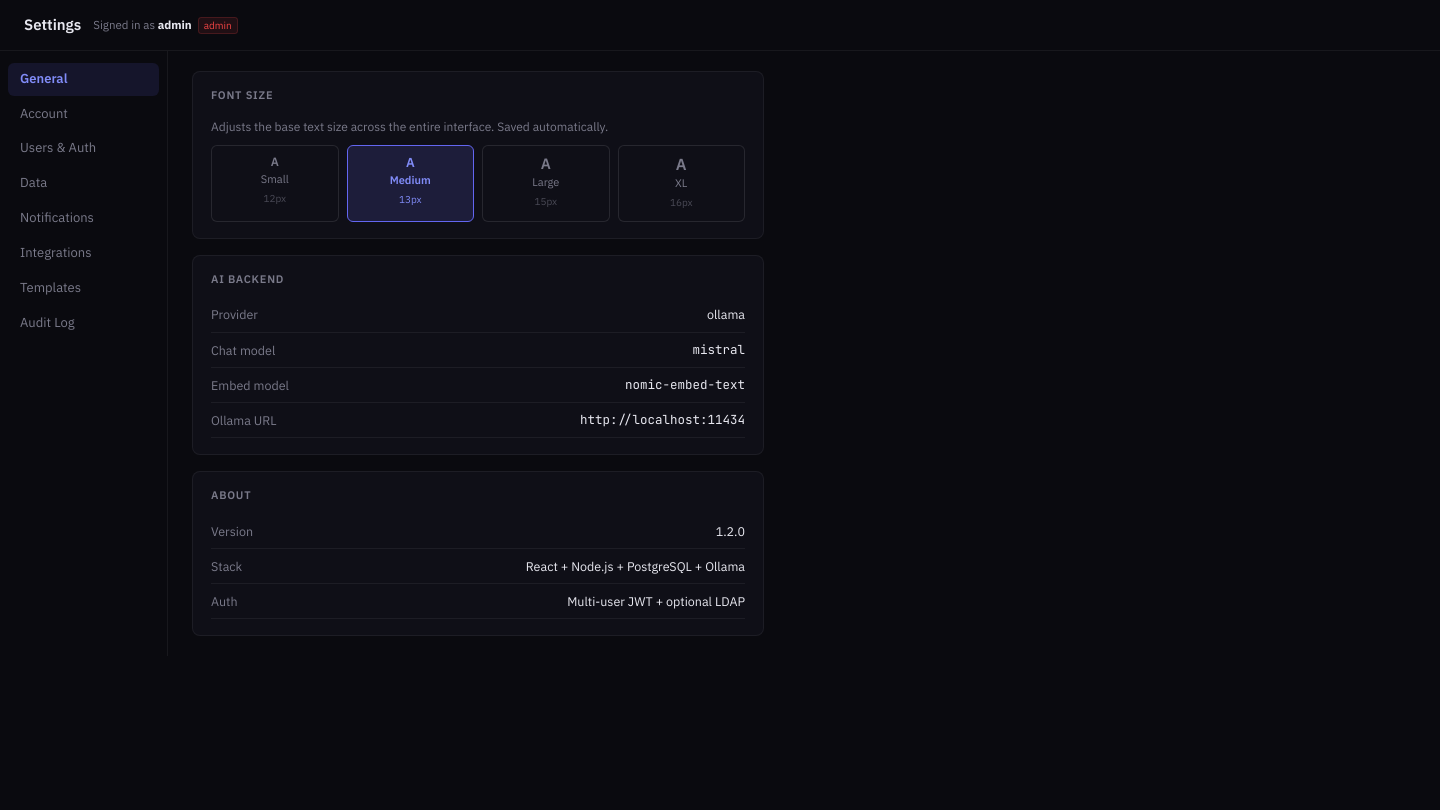
Test: SettingsPage — Users & Auth tab › lists active users
Expected: the text "ollama" is shown, [707, 306, 745, 324]
Step 1. Click the button "Users & Auth" → (84, 149), box [8, 132, 159, 165]
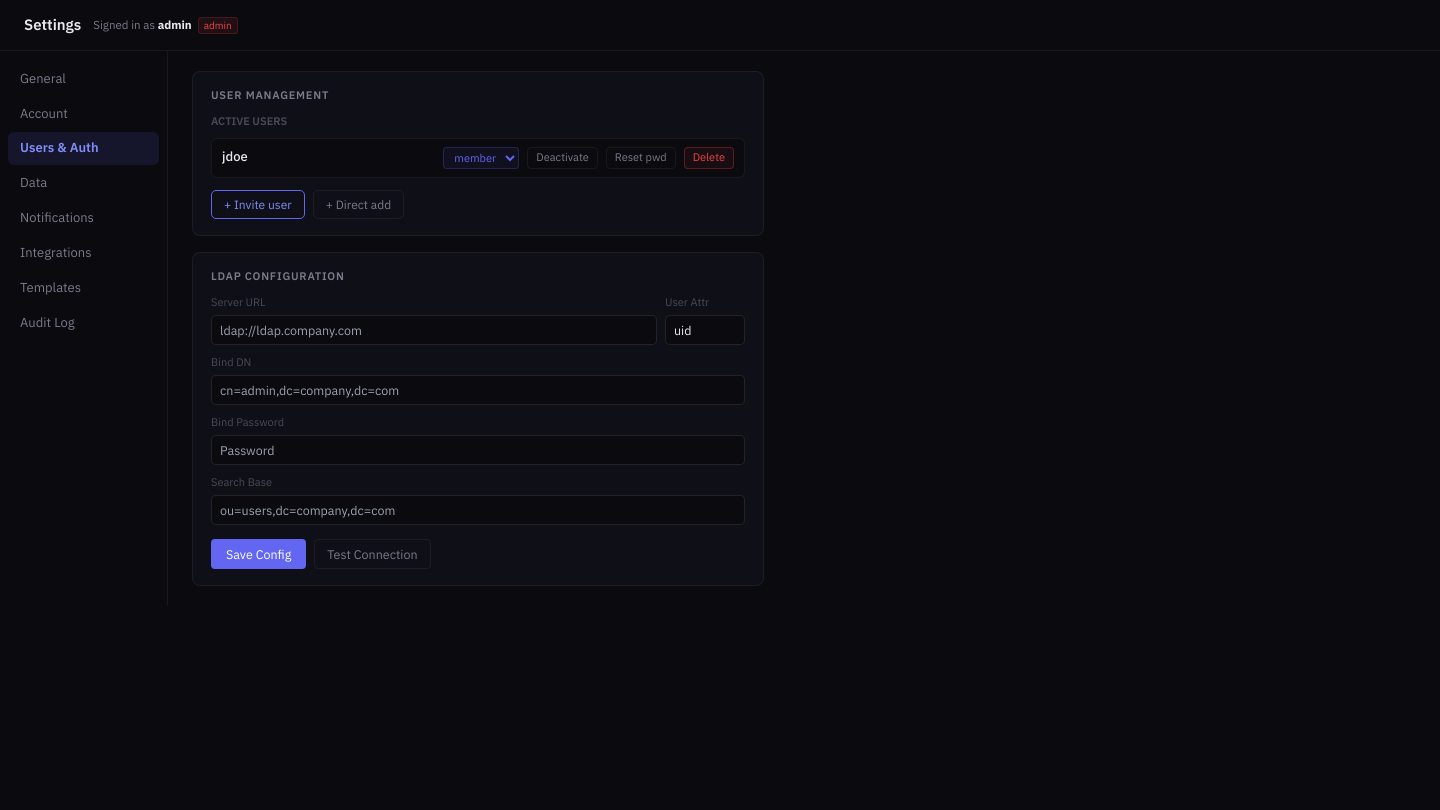
Result: the text "jdoe" is shown at [222, 148, 248, 165]
